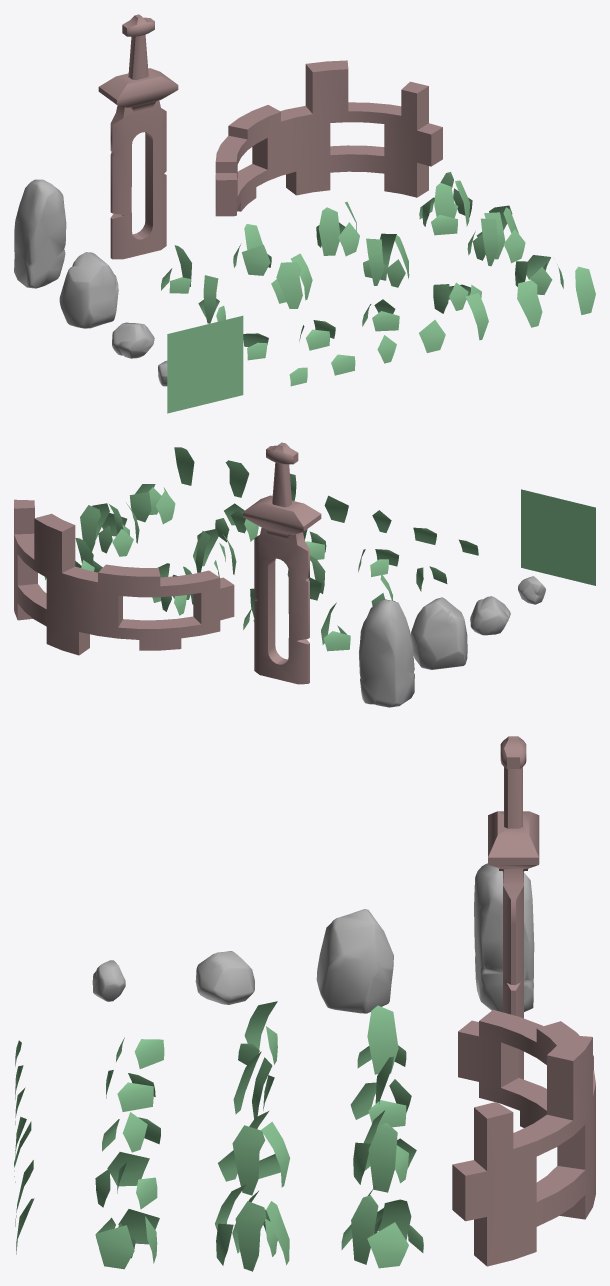
3 renders of one model, top to bottom at view 1: azimuth 30°, elevation 25°; view 2: azimuth 150°, elevation 25°; view 3: azimuth 270°, elevation 25°, orthographic. The views are drawn at different scales.
Parts seen in each view (by area): view 1: AncientRuins_Shell, AncientRuins_Sword, AncientRuins_PlantsPlane, AncientRuins_Rock4, AncientRuins_Rock3, AncientRuins_Plants16, AncientRuins_Plants20, AncientRuins_Plants15, AncientRuins_Plants19, AncientRuins_Plants14, AncientRuins_Rock2, AncientRuins_Plants18 (+11 smaller); view 2: AncientRuins_Shell, AncientRuins_Sword, AncientRuins_PlantsPlane, AncientRuins_Rock4, AncientRuins_Rock3, AncientRuins_Plants16, AncientRuins_Plants12, AncientRuins_Rock2, AncientRuins_Plants15, AncientRuins_Plants11, AncientRuins_Plants17, AncientRuins_Plants19 (+8 smaller); view 3: AncientRuins_Shell, AncientRuins_Sword, AncientRuins_Rock3, AncientRuins_Rock4, AncientRuins_Plants20, AncientRuins_Plants16, AncientRuins_Plants15, AncientRuins_Plants19, AncientRuins_Rock2, AncientRuins_Plants12, AncientRuins_Plants18, AncientRuins_Plants11 (+7 smaller).
Boxes of the visible parts, bbox=[...] form: AncientRuins_Shell: bbox=[215, 60, 442, 216]; AncientRuins_Sword: bbox=[98, 14, 178, 259]; AncientRuins_PlantsPlane: bbox=[167, 315, 243, 413]; AncientRuins_Rock4: bbox=[14, 179, 66, 288]; AncientRuins_Rock3: bbox=[59, 252, 118, 328]; AncientRuins_Plants16: bbox=[467, 205, 525, 266]; AncientRuins_Plants20: bbox=[419, 172, 472, 235]; AncientRuins_Plants15: bbox=[363, 233, 409, 287]; AncientRuins_Plants19: bbox=[316, 201, 359, 256]; AncientRuins_Plants14: bbox=[271, 253, 312, 308]; AncientRuins_Rock2: bbox=[112, 322, 154, 358]; AncientRuins_Plants18: bbox=[233, 224, 271, 275]; AncientRuins_Shell: bbox=[14, 499, 234, 655]; AncientRuins_Sword: bbox=[243, 442, 321, 684]; AncientRuins_PlantsPlane: bbox=[521, 489, 595, 585]; AncientRuins_Rock4: bbox=[359, 600, 414, 707]; AncientRuins_Rock3: bbox=[411, 597, 467, 669]; AncientRuins_Plants16: bbox=[80, 503, 139, 556]; AncientRuins_Plants12: bbox=[129, 484, 175, 524]; AncientRuins_Rock2: bbox=[470, 596, 510, 635]; AncientRuins_Plants15: bbox=[193, 529, 236, 577]; AncientRuins_Plants11: bbox=[215, 503, 258, 542]; AncientRuins_Plants17: bbox=[321, 602, 350, 651]; AncientRuins_Plants19: bbox=[152, 563, 193, 615]; AncientRuins_Shell: bbox=[452, 1010, 595, 1266]; AncientRuins_Sword: bbox=[488, 736, 539, 1079]; AncientRuins_Rock3: bbox=[316, 909, 393, 1013]; AncientRuins_Rock4: bbox=[474, 863, 534, 1012]; AncientRuins_Plants20: bbox=[341, 1186, 423, 1268]; AncientRuins_Plants16: bbox=[215, 1184, 289, 1271]; AncientRuins_Plants15: bbox=[218, 1111, 290, 1195]; AncientRuins_Plants19: bbox=[353, 1110, 416, 1192]; AncientRuins_Rock2: bbox=[195, 951, 254, 1004]; AncientRuins_Plants12: bbox=[95, 1209, 159, 1269]; AncientRuins_Plants18: bbox=[350, 1056, 411, 1128]; AncientRuins_Plants11: bbox=[95, 1152, 157, 1209].
Bounding box in the file's own units: 3740 × 1937 × 3054.
